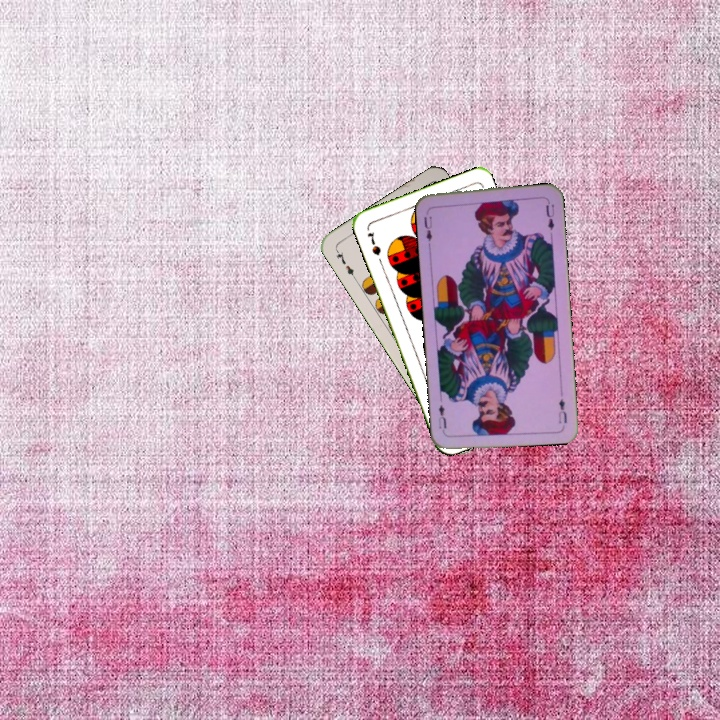E7: (331, 246, 358, 282)
EU: (420, 206, 435, 247), (554, 387, 569, 426)
S7: (363, 228, 384, 258)
